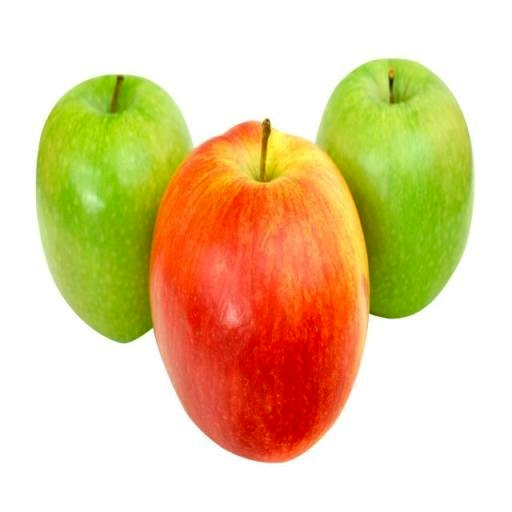fruit: (160, 60, 512, 277), (74, 142, 227, 470), (17, 112, 74, 400)
